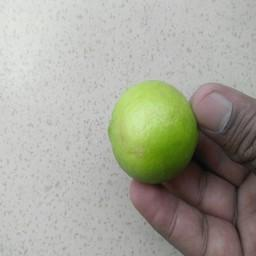Good_lime: (107, 73, 200, 186)
